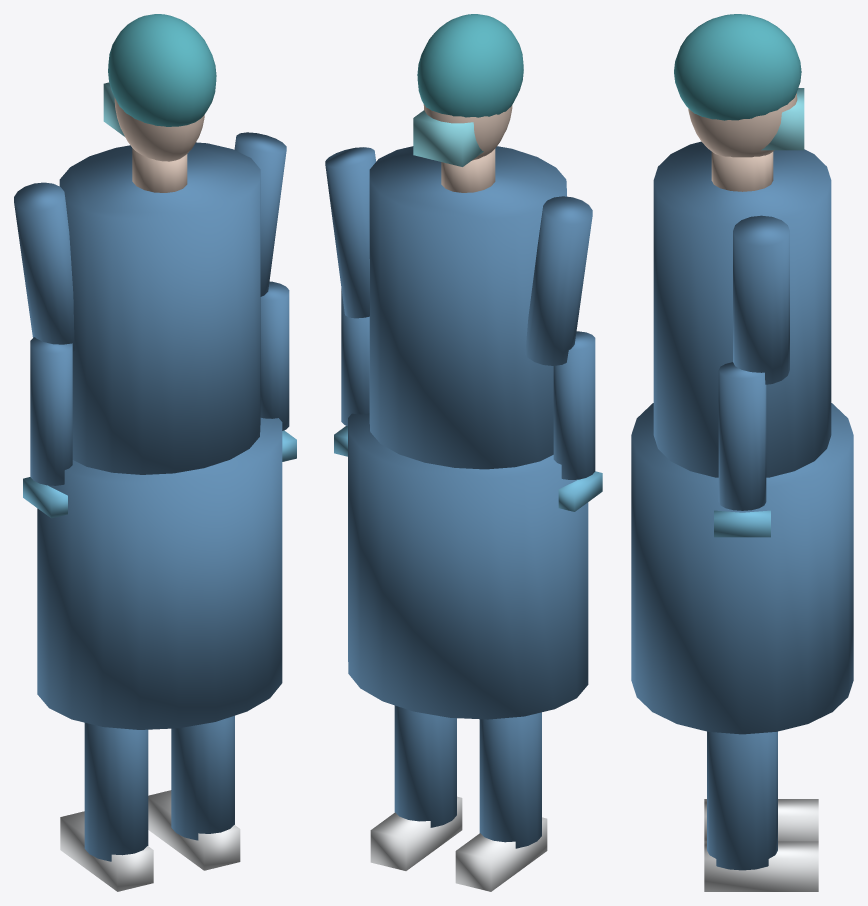
The model's file is Character_Anesthesiologist.glb.
3 views of the same model, side by side, from view 1: azimuth 30°, elevation 25°; view 2: azimuth 150°, elevation 25°; view 3: azimuth 270°, elevation 25° (orthographic).
Visible parts, largest first — view 1: Character_Anesthesiologist; view 2: Character_Anesthesiologist; view 3: Character_Anesthesiologist.
Part boxes in pixels (<box>): Character_Anesthesiologist: <box>14,14,296,891</box>; Character_Anesthesiologist: <box>325,14,602,891</box>; Character_Anesthesiologist: <box>631,14,853,891</box>.
Bounding box in the file's own units: 0.675 × 2.06 × 0.4914.
